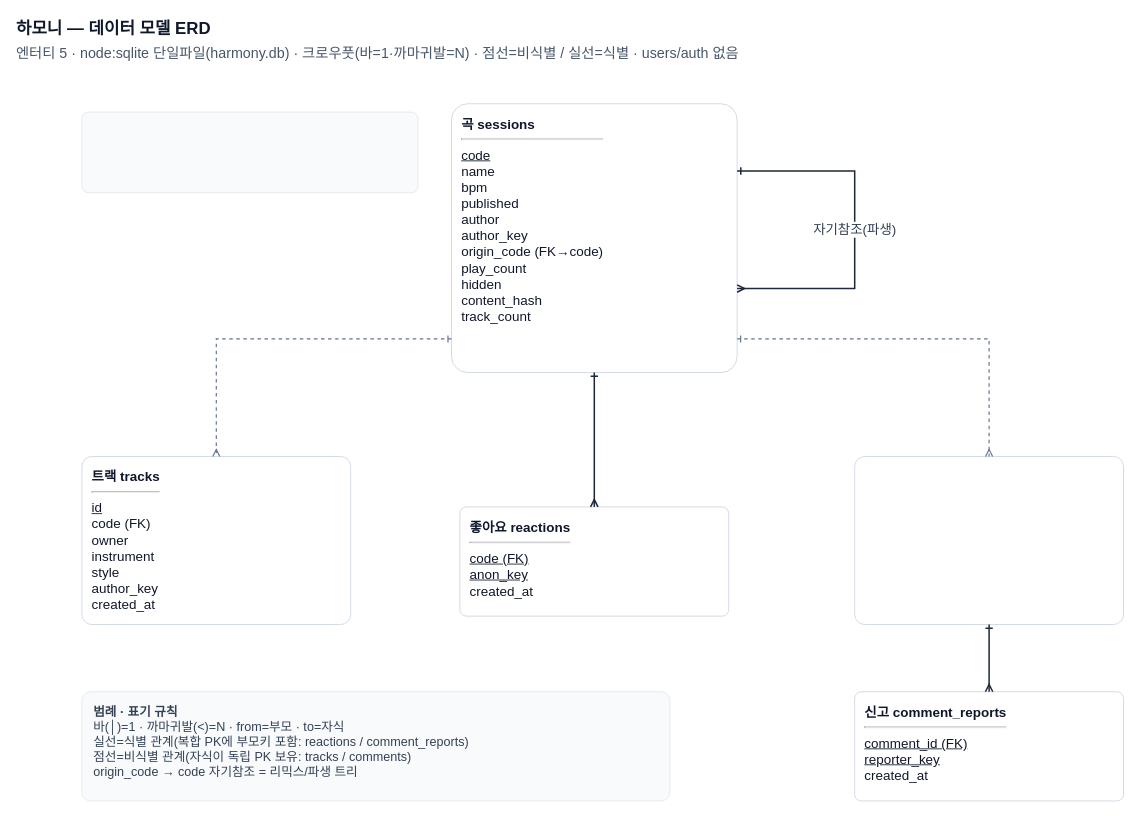
The diagram is 1138 pixels wide and 816 high, and some of its shapes have lost their labels. Here are the shapes that lost their labels. From the top down, the centre of each, then its label:
At (x=249, y=152): "users / auth 개체 없음 author_key·anon_key·reporter_key = 약한 익명 식별자".
At (x=989, y=540): "댓글 comments id code (FK) author_key author text reports hidden".
